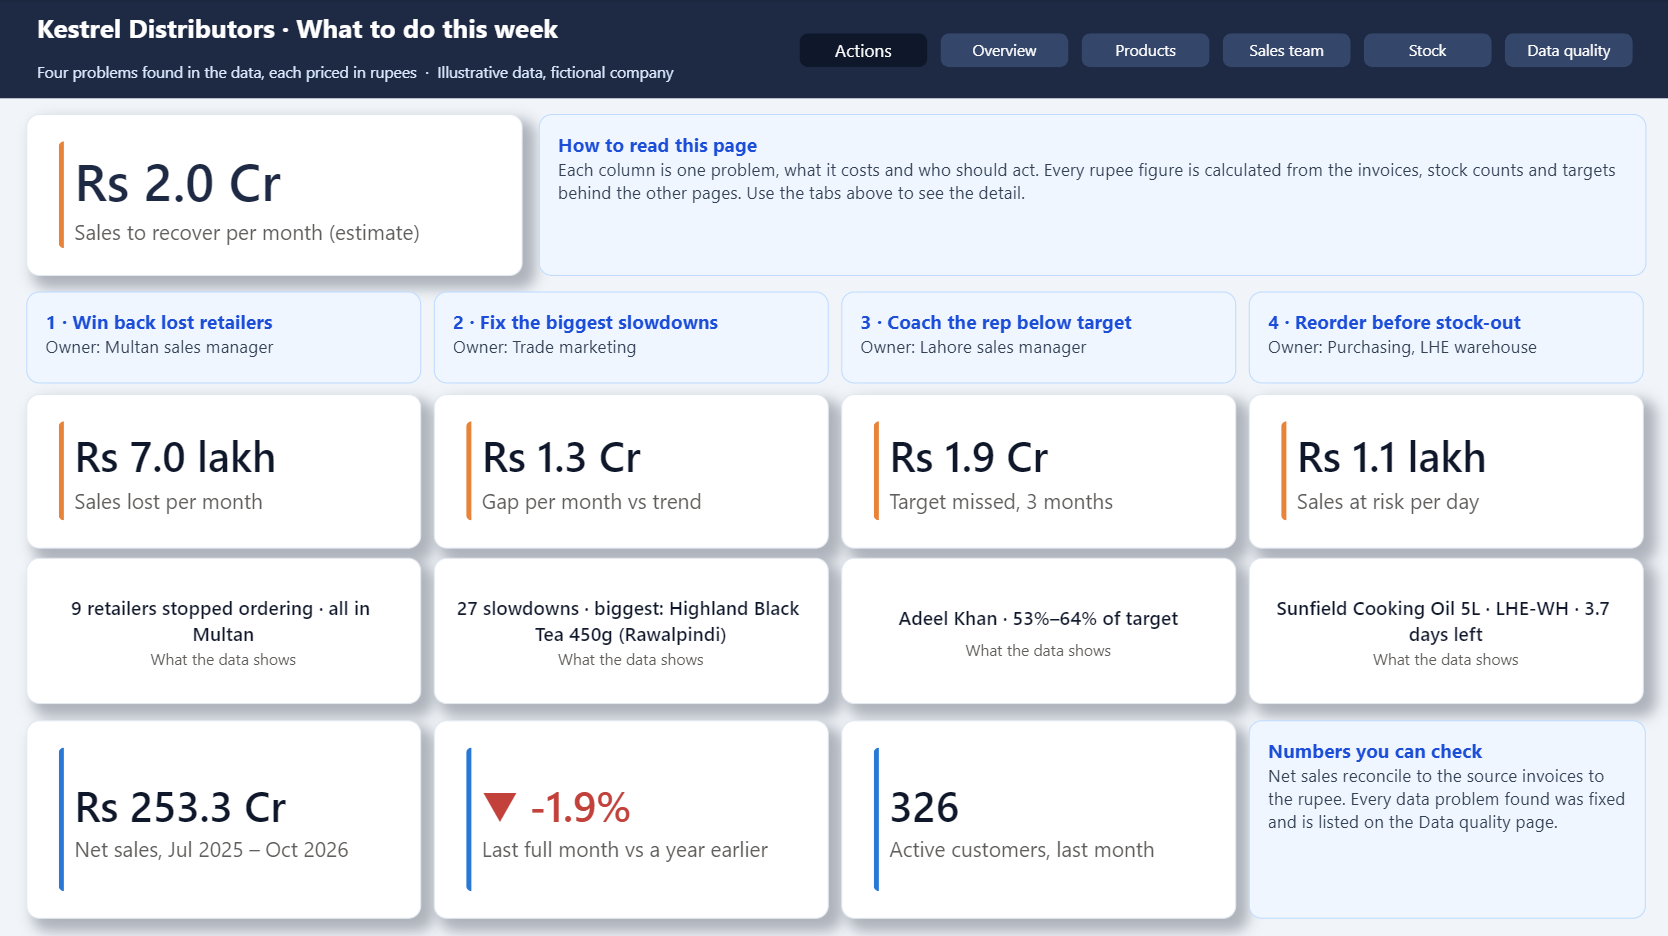

The page's visual inventory and layout, read from the dashboard file:
{"tool":"powerbi","page":{"name":"Actions","canvas":[1280,720],"ordinal":0},"visuals":[{"type":"textbox","box":[0,0,1280,76],"z":1000},{"type":"textbox","box":[16,0,580,46],"z":2000},{"type":"textbox","box":[16,38,580,36],"z":3000},{"type":"pageNavigator","box":[600,18,664,42],"z":4000},{"type":"cardVisual","fields":{"Data":["rpt_sales_overview.Sales at Stake Text"]},"box":[20,88,380,124],"z":5000},{"type":"textbox","box":[412,88,848,124],"z":6000},{"type":"textbox","box":[20,224,302,70],"z":7000},{"type":"cardVisual","fields":{"Data":["mart_customer_activity.Churn Text"]},"box":[20,302,302,118],"z":8000},{"type":"card","fields":{"Values":["mart_customer_activity.Churn Detail"]},"box":[20,428,302,112],"z":9000},{"type":"textbox","box":[332,224,302,70],"z":10000},{"type":"cardVisual","fields":{"Data":["mart_product_city_trend.Lost Sales Text"]},"box":[332,302,302,118],"z":11000},{"type":"card","fields":{"Values":["mart_product_city_trend.Slowdown Detail"]},"box":[332,428,302,112],"z":12000},{"type":"textbox","box":[644,224,302,70],"z":13000},{"type":"cardVisual","fields":{"Data":["mart_salesperson_attainment.Shortfall Text"]},"box":[644,302,302,118],"z":14000},{"type":"card","fields":{"Values":["mart_salesperson_attainment.Rep Detail"]},"box":[644,428,302,112],"z":15000},{"type":"textbox","box":[956,224,302,70],"z":16000},{"type":"cardVisual","fields":{"Data":["mart_stock_cover.Stock Risk Text"]},"box":[956,302,302,118],"z":17000},{"type":"card","fields":{"Values":["mart_stock_cover.Stock Detail"]},"box":[956,428,302,112],"z":18000},{"type":"cardVisual","fields":{"Data":["rpt_sales_overview.Net Sales Text"]},"box":[20,552,302,152],"z":19000},{"type":"cardVisual","fields":{"Data":["rpt_sales_overview.YoY %"]},"box":[332,552,302,152],"z":20000},{"type":"cardVisual","fields":{"Data":["rpt_sales_overview.Active Customers LM"]},"box":[644,552,302,152],"z":21000},{"type":"textbox","box":[956,552,304,152],"z":22000}]}

Visuals, with their boxes in screenshot pixels (x1, y1, x2, y2), scaled from the page's 1280x720 canvas onto the 1668x936 screenshot:
textbox: 0/0/1667/99
textbox: 21/0/777/60
textbox: 21/49/777/96
pageNavigator: 782/23/1647/78
cardVisual - rpt_sales_overview.Sales at Stake Text: 26/114/521/276
textbox: 537/114/1642/276
textbox: 26/291/420/382
cardVisual - mart_customer_activity.Churn Text: 26/393/420/546
card - mart_customer_activity.Churn Detail: 26/556/420/702
textbox: 433/291/826/382
cardVisual - mart_product_city_trend.Lost Sales Text: 433/393/826/546
card - mart_product_city_trend.Slowdown Detail: 433/556/826/702
textbox: 839/291/1233/382
cardVisual - mart_salesperson_attainment.Shortfall Text: 839/393/1233/546
card - mart_salesperson_attainment.Rep Detail: 839/556/1233/702
textbox: 1246/291/1639/382
cardVisual - mart_stock_cover.Stock Risk Text: 1246/393/1639/546
card - mart_stock_cover.Stock Detail: 1246/556/1639/702
cardVisual - rpt_sales_overview.Net Sales Text: 26/718/420/915
cardVisual - rpt_sales_overview.YoY %: 433/718/826/915
cardVisual - rpt_sales_overview.Active Customers LM: 839/718/1233/915
textbox: 1246/718/1642/915
